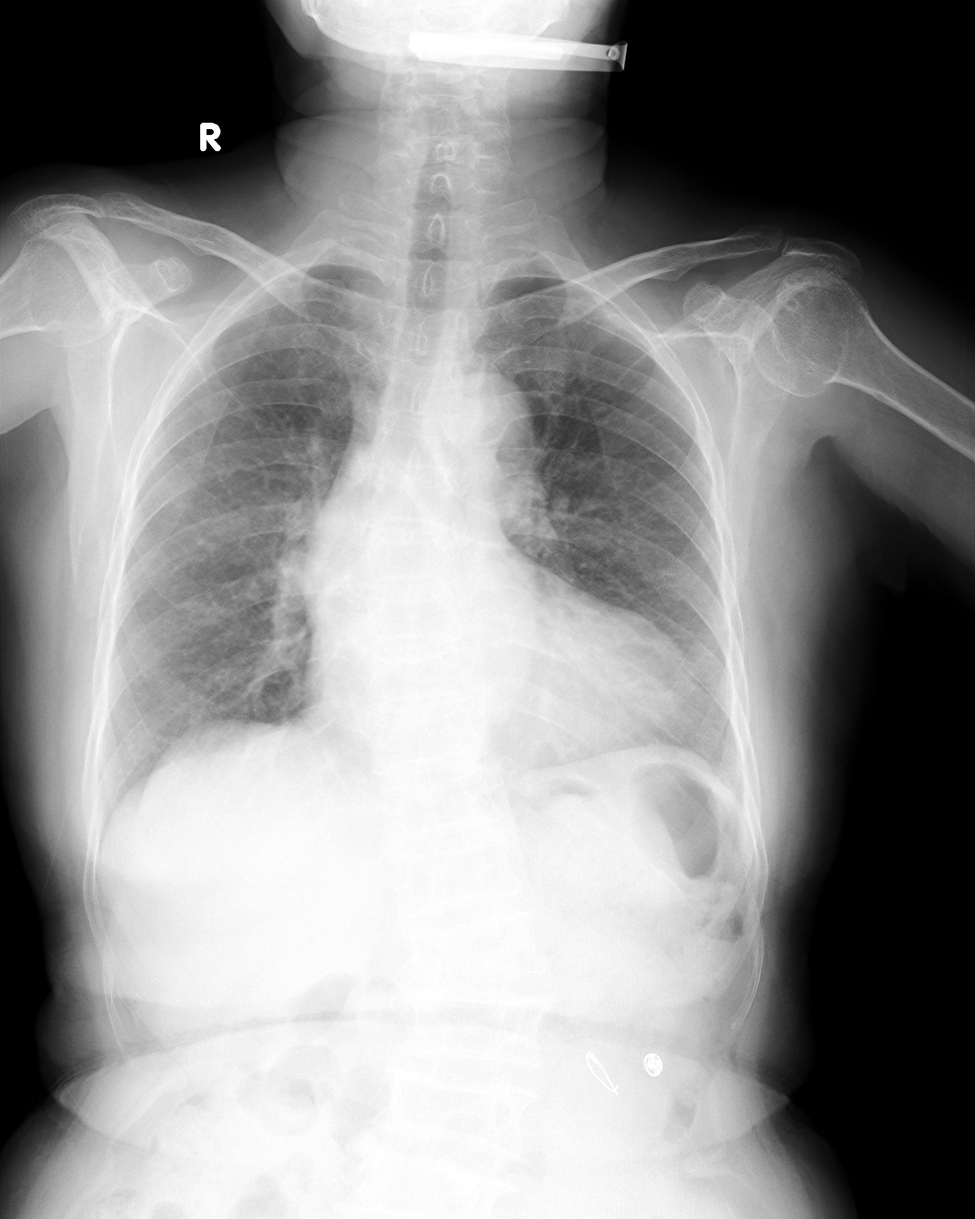Aortic enlargement: (428, 370, 536, 499)
Cardiomegaly: (298, 629, 689, 764)
